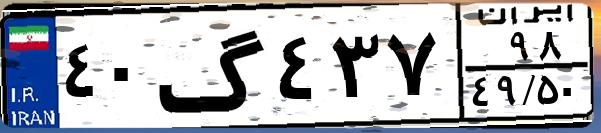0: (110, 28, 156, 98), (560, 70, 590, 125)
3: (330, 28, 385, 110)
4: (270, 28, 330, 110), (57, 26, 110, 100), (470, 70, 495, 125)
5: (535, 70, 560, 125)
7: (385, 28, 445, 110)
8: (537, 27, 568, 80)
9: (508, 27, 537, 80), (495, 70, 520, 125)
گ: (156, 12, 270, 120)
